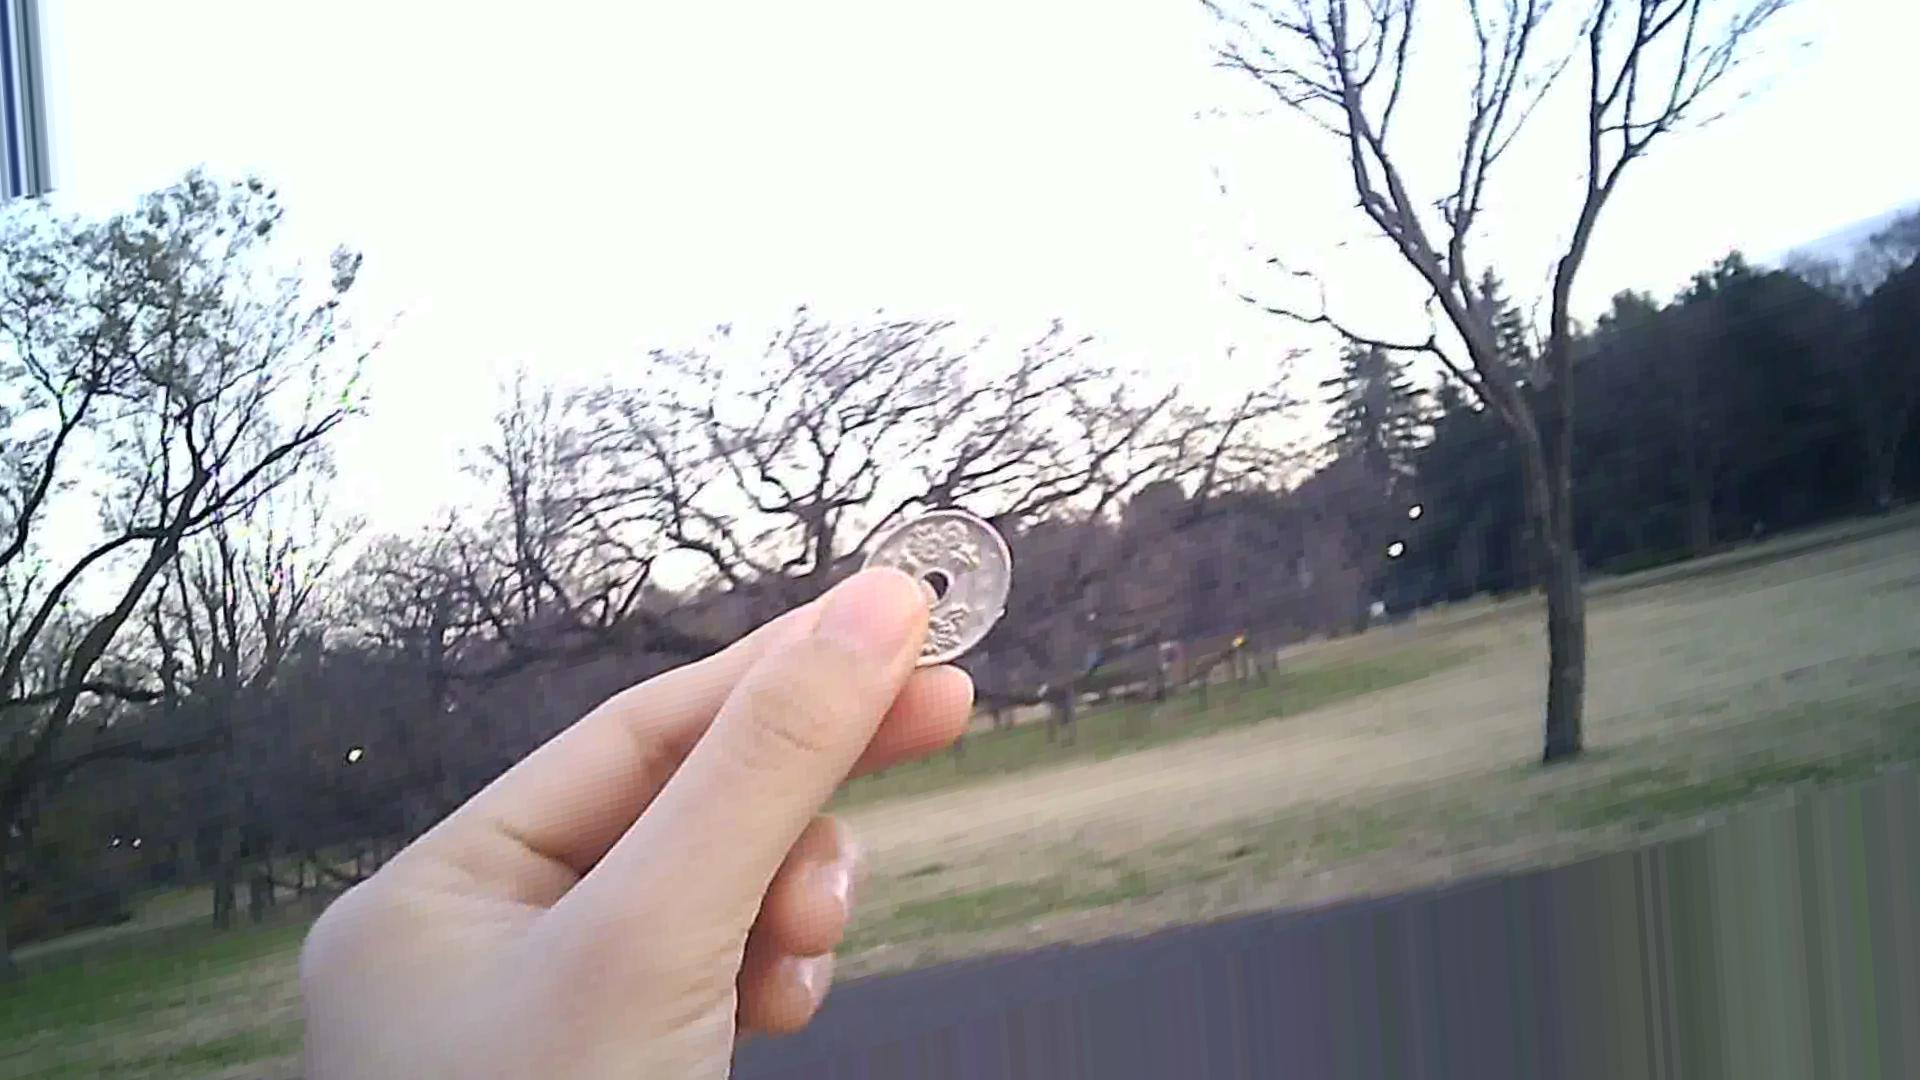50 Yen: (847, 495, 1029, 683)
